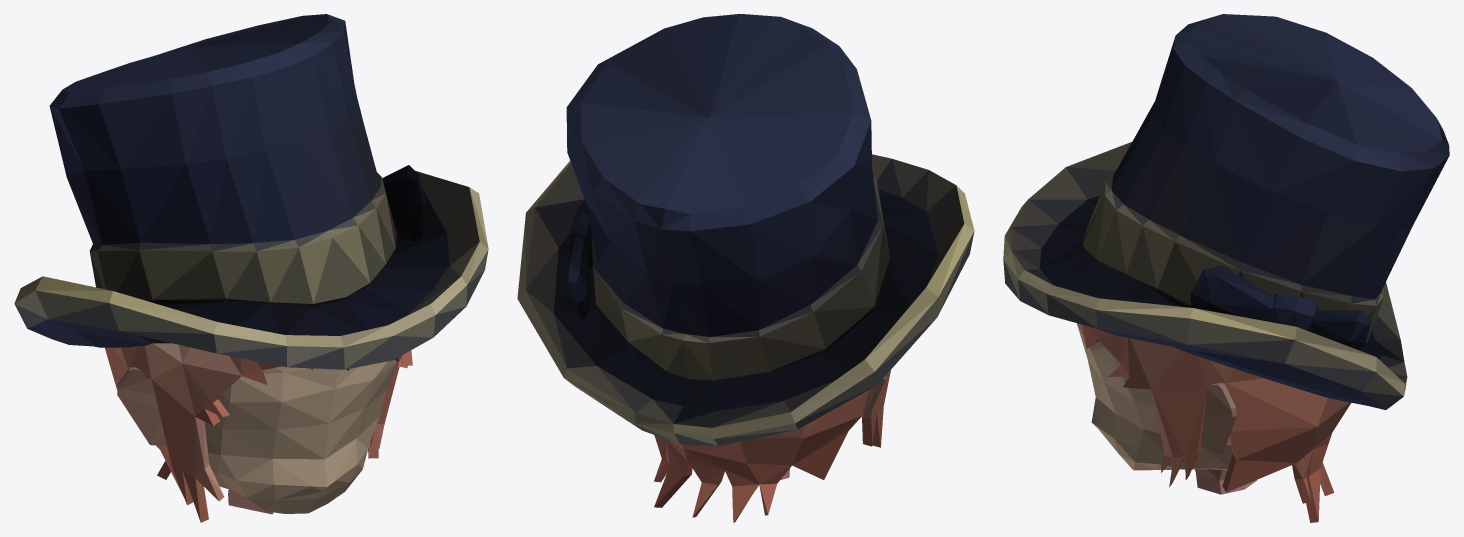
The model's file is helm_lightskin_standard_blonde_tophat.fbx.
The picture shows the model from 3 angles, left to right: view 1: azimuth 30°, elevation 25°; view 2: azimuth 150°, elevation 25°; view 3: azimuth 270°, elevation 25°; orthographic projection. The views are drawn at different scales.
Parts seen in each view (by area): view 1: helm_lightskin_standard_blonde_tophat; view 2: helm_lightskin_standard_blonde_tophat; view 3: helm_lightskin_standard_blonde_tophat.
Boxes of the visible parts, bbox=[...] form: helm_lightskin_standard_blonde_tophat: bbox=[14, 14, 488, 522]; helm_lightskin_standard_blonde_tophat: bbox=[517, 14, 974, 522]; helm_lightskin_standard_blonde_tophat: bbox=[1003, 14, 1449, 522].
Bounding box in the file's own units: 1.67 × 1.86 × 1.64.
